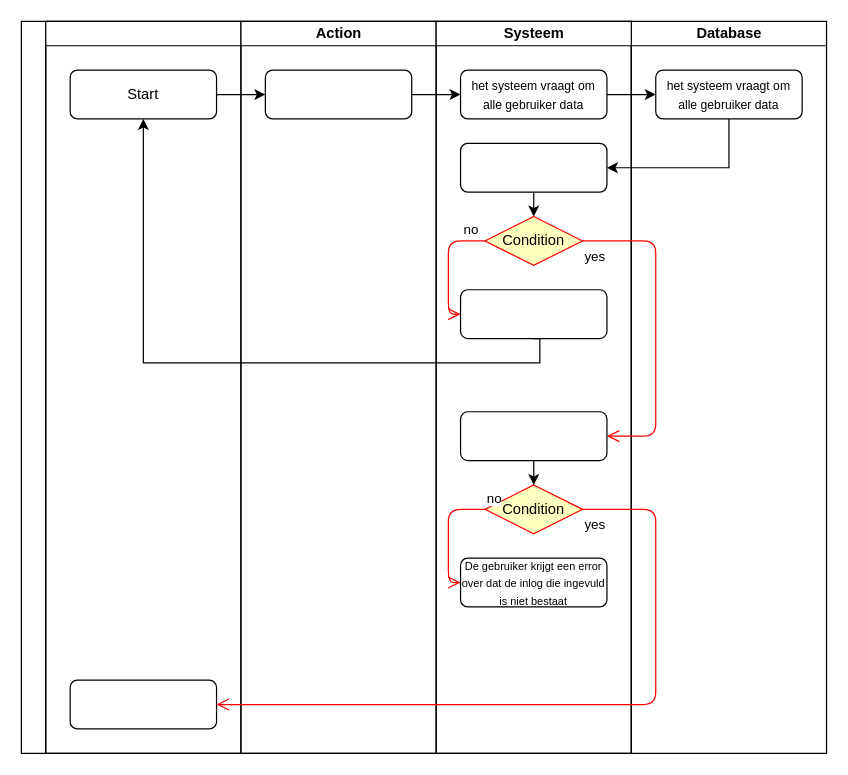
Image size: 848x775. Some labels were removed from this diagram. Each missing label, with the centre of its shape:
"De gebruiker krijgt een error over dat hij/zij niet een email heeft ingevoerd" goes at (533,314).
"De gebruiker vult zijn/haar inloggevens" goes at (338,94).
"De website checkt of de ingevulde informatie in de database zit" goes at (533,436).
"Einde" goes at (143,704).
"Het systeem checkt of de gebruiker wel een email heeft ingevuld" goes at (533,167).
